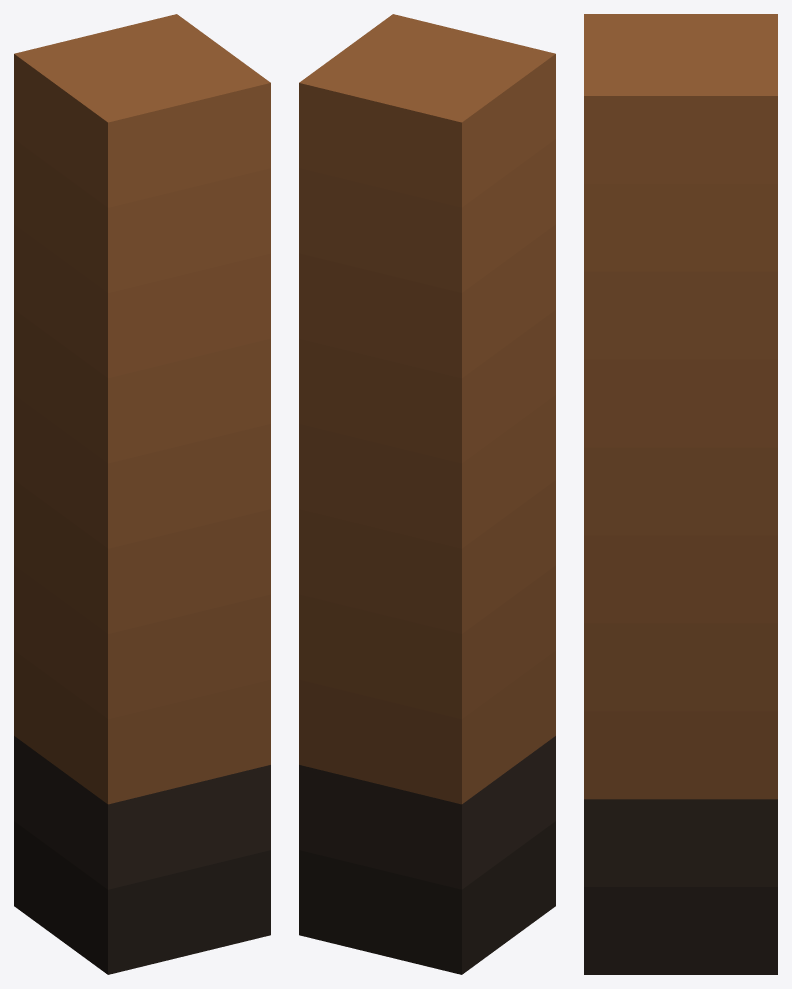
File: leg.glb
The picture shows the model from 3 angles, left to right: view 1: azimuth 30°, elevation 25°; view 2: azimuth 150°, elevation 25°; view 3: azimuth 270°, elevation 25°; orthographic projection. The views are drawn at different scales.
Visible parts, largest first — view 1: leg; view 2: leg; view 3: leg.
Boxes of the visible parts, bbox=[...] form: leg: bbox=[14, 14, 270, 974]; leg: bbox=[299, 14, 555, 974]; leg: bbox=[584, 14, 777, 974].
Size of the model in its own units: 0.25 by 1.25 by 0.25.
